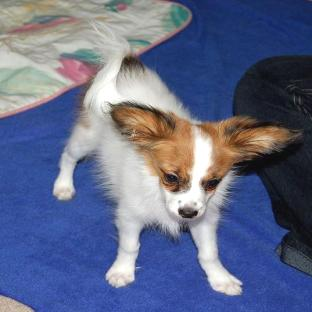Animal: (53, 22, 301, 295)
